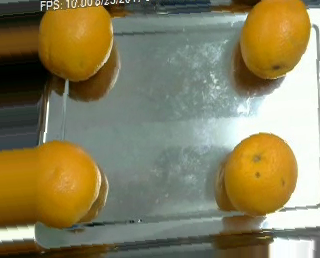Orange: (223, 133, 298, 216), (37, 1, 112, 82), (240, 1, 312, 79)
